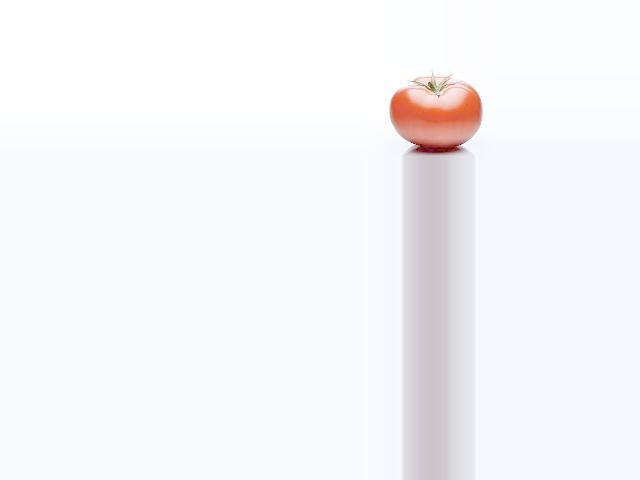tomato: (389, 75, 482, 147)
